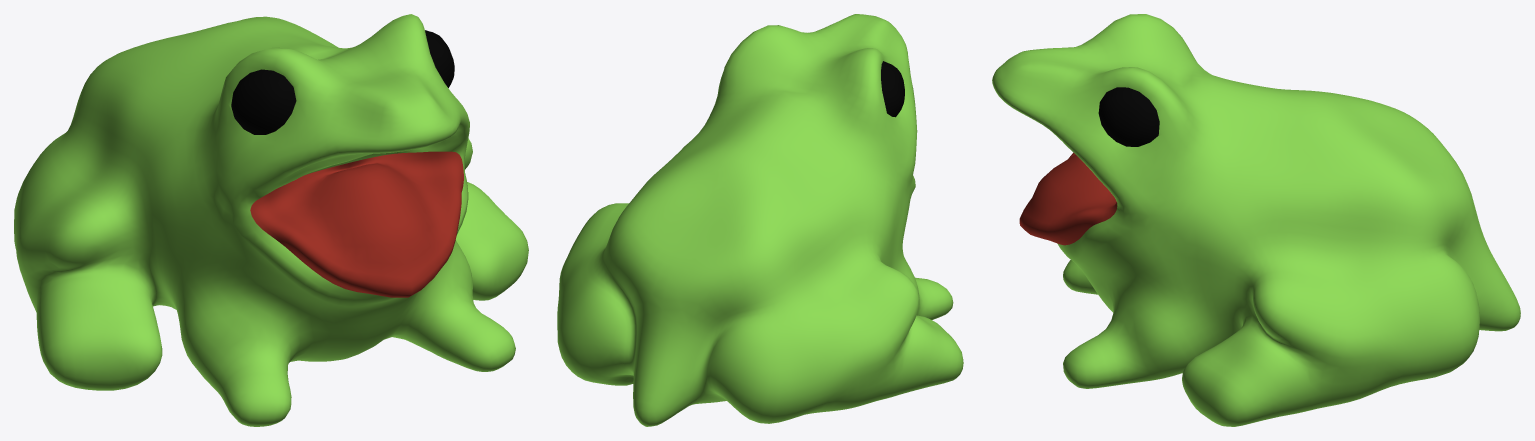
Rendered from Frog_FBX_Group (1).fbx.
The picture shows the model from 3 angles, left to right: view 1: azimuth 30°, elevation 25°; view 2: azimuth 150°, elevation 25°; view 3: azimuth 270°, elevation 25°; orthographic projection. The views are drawn at different scales.
Parts seen in each view (by area): view 1: Group13296; view 2: Group13296; view 3: Group13296.
Part boxes in pixels (left/top/right/bottom): Group13296: left=14, top=14, right=528, bottom=426; Group13296: left=557, top=14, right=963, bottom=426; Group13296: left=992, top=14, right=1520, bottom=426.
Bounding box in the file's own units: 3.41 × 2.37 × 3.78.
